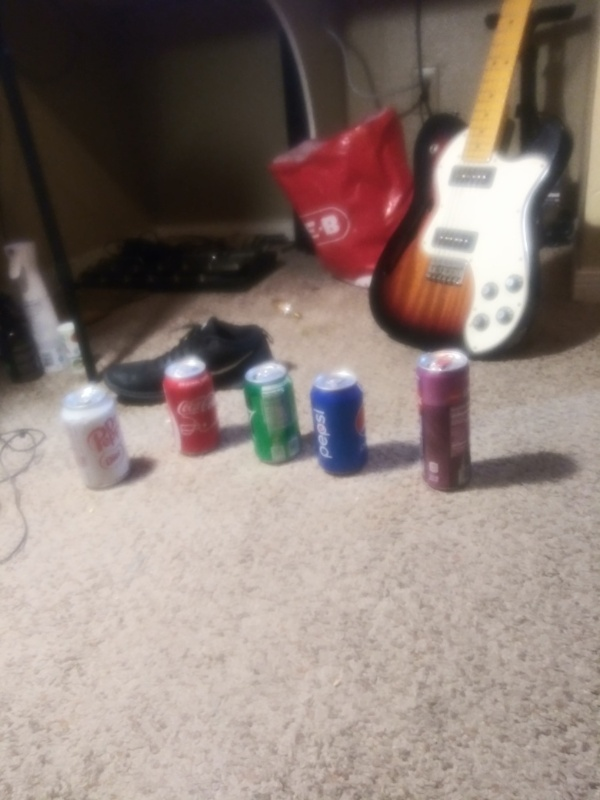can: (413, 345, 481, 495), (56, 383, 136, 490), (236, 360, 305, 468), (307, 370, 372, 474), (161, 354, 224, 460)
